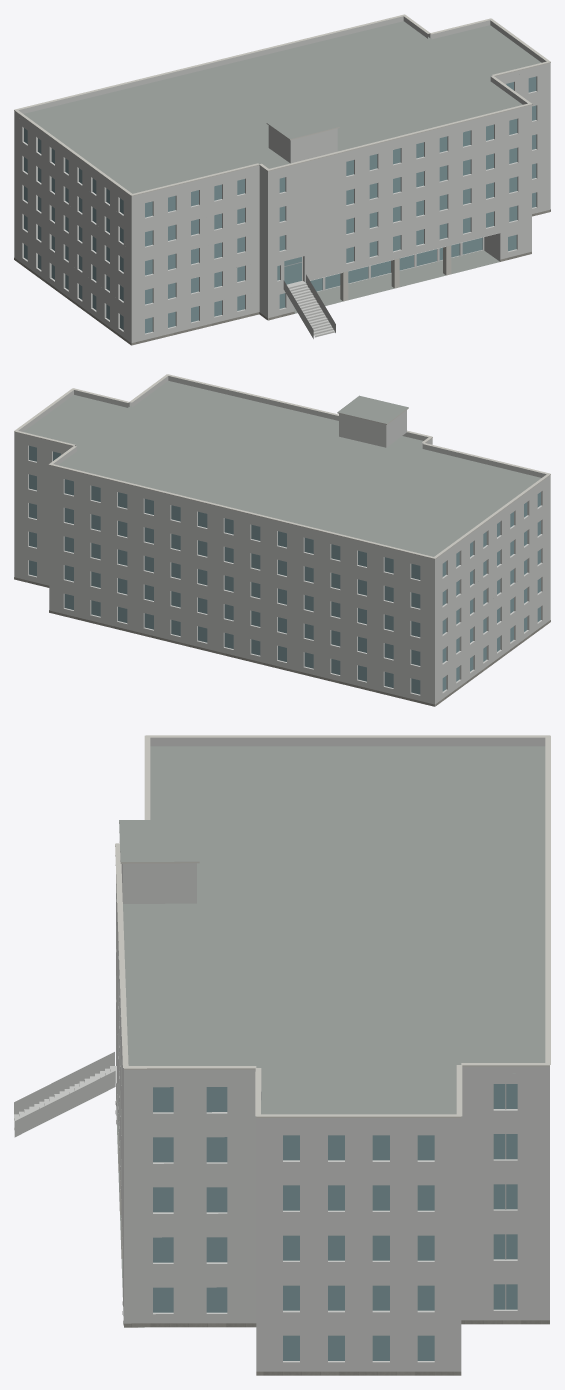
The picture shows the model from 3 angles, top to bottom: view 1: azimuth 30°, elevation 25°; view 2: azimuth 150°, elevation 25°; view 3: azimuth 270°, elevation 25°; orthographic projection. The views are drawn at different scales.
Parts seen in each view (by area): view 1: w16__wall, w16__roof, w16__glass, w16__parapet, w16__trim, w16__base, w16__column, w16__externalStairRisers, w16__externalStairTreads, w16__externalStairSides; view 2: w16__wall, w16__roof, w16__glass, w16__parapet, w16__trim, w16__base; view 3: w16__roof, w16__wall, w16__glass, w16__trim, w16__parapet, w16__externalStairSides, w16__base.
Part boxes in pixels (x1,y1,x2,y2): w16__wall: (14, 67, 550, 344); w16__roof: (24, 21, 541, 313); w16__glass: (24, 76, 536, 333); w16__parapet: (14, 16, 550, 200); w16__trim: (14, 14, 550, 196); w16__base: (14, 209, 550, 345); w16__column: (340, 245, 451, 301); w16__externalStairRisers: (288, 283, 334, 337); w16__externalStairTreads: (288, 282, 334, 335); w16__externalStairSides: (283, 274, 335, 338); w16__wall: (14, 410, 550, 706); w16__roof: (23, 381, 541, 556); w16__glass: (29, 445, 540, 694); w16__parapet: (14, 376, 550, 563); w16__trim: (14, 374, 550, 559); w16__base: (14, 577, 550, 706); w16__roof: (117, 746, 545, 1327); w16__wall: (116, 863, 549, 1371); w16__glass: (153, 1084, 517, 1360); w16__trim: (115, 735, 550, 1117); w16__parapet: (123, 737, 549, 1124); w16__externalStairSides: (14, 1052, 115, 1137); w16__base: (115, 1101, 549, 1375).
Bounding box in the file's own units: 57.11 × 21.25 × 34.
14 materials, 1 textured.
